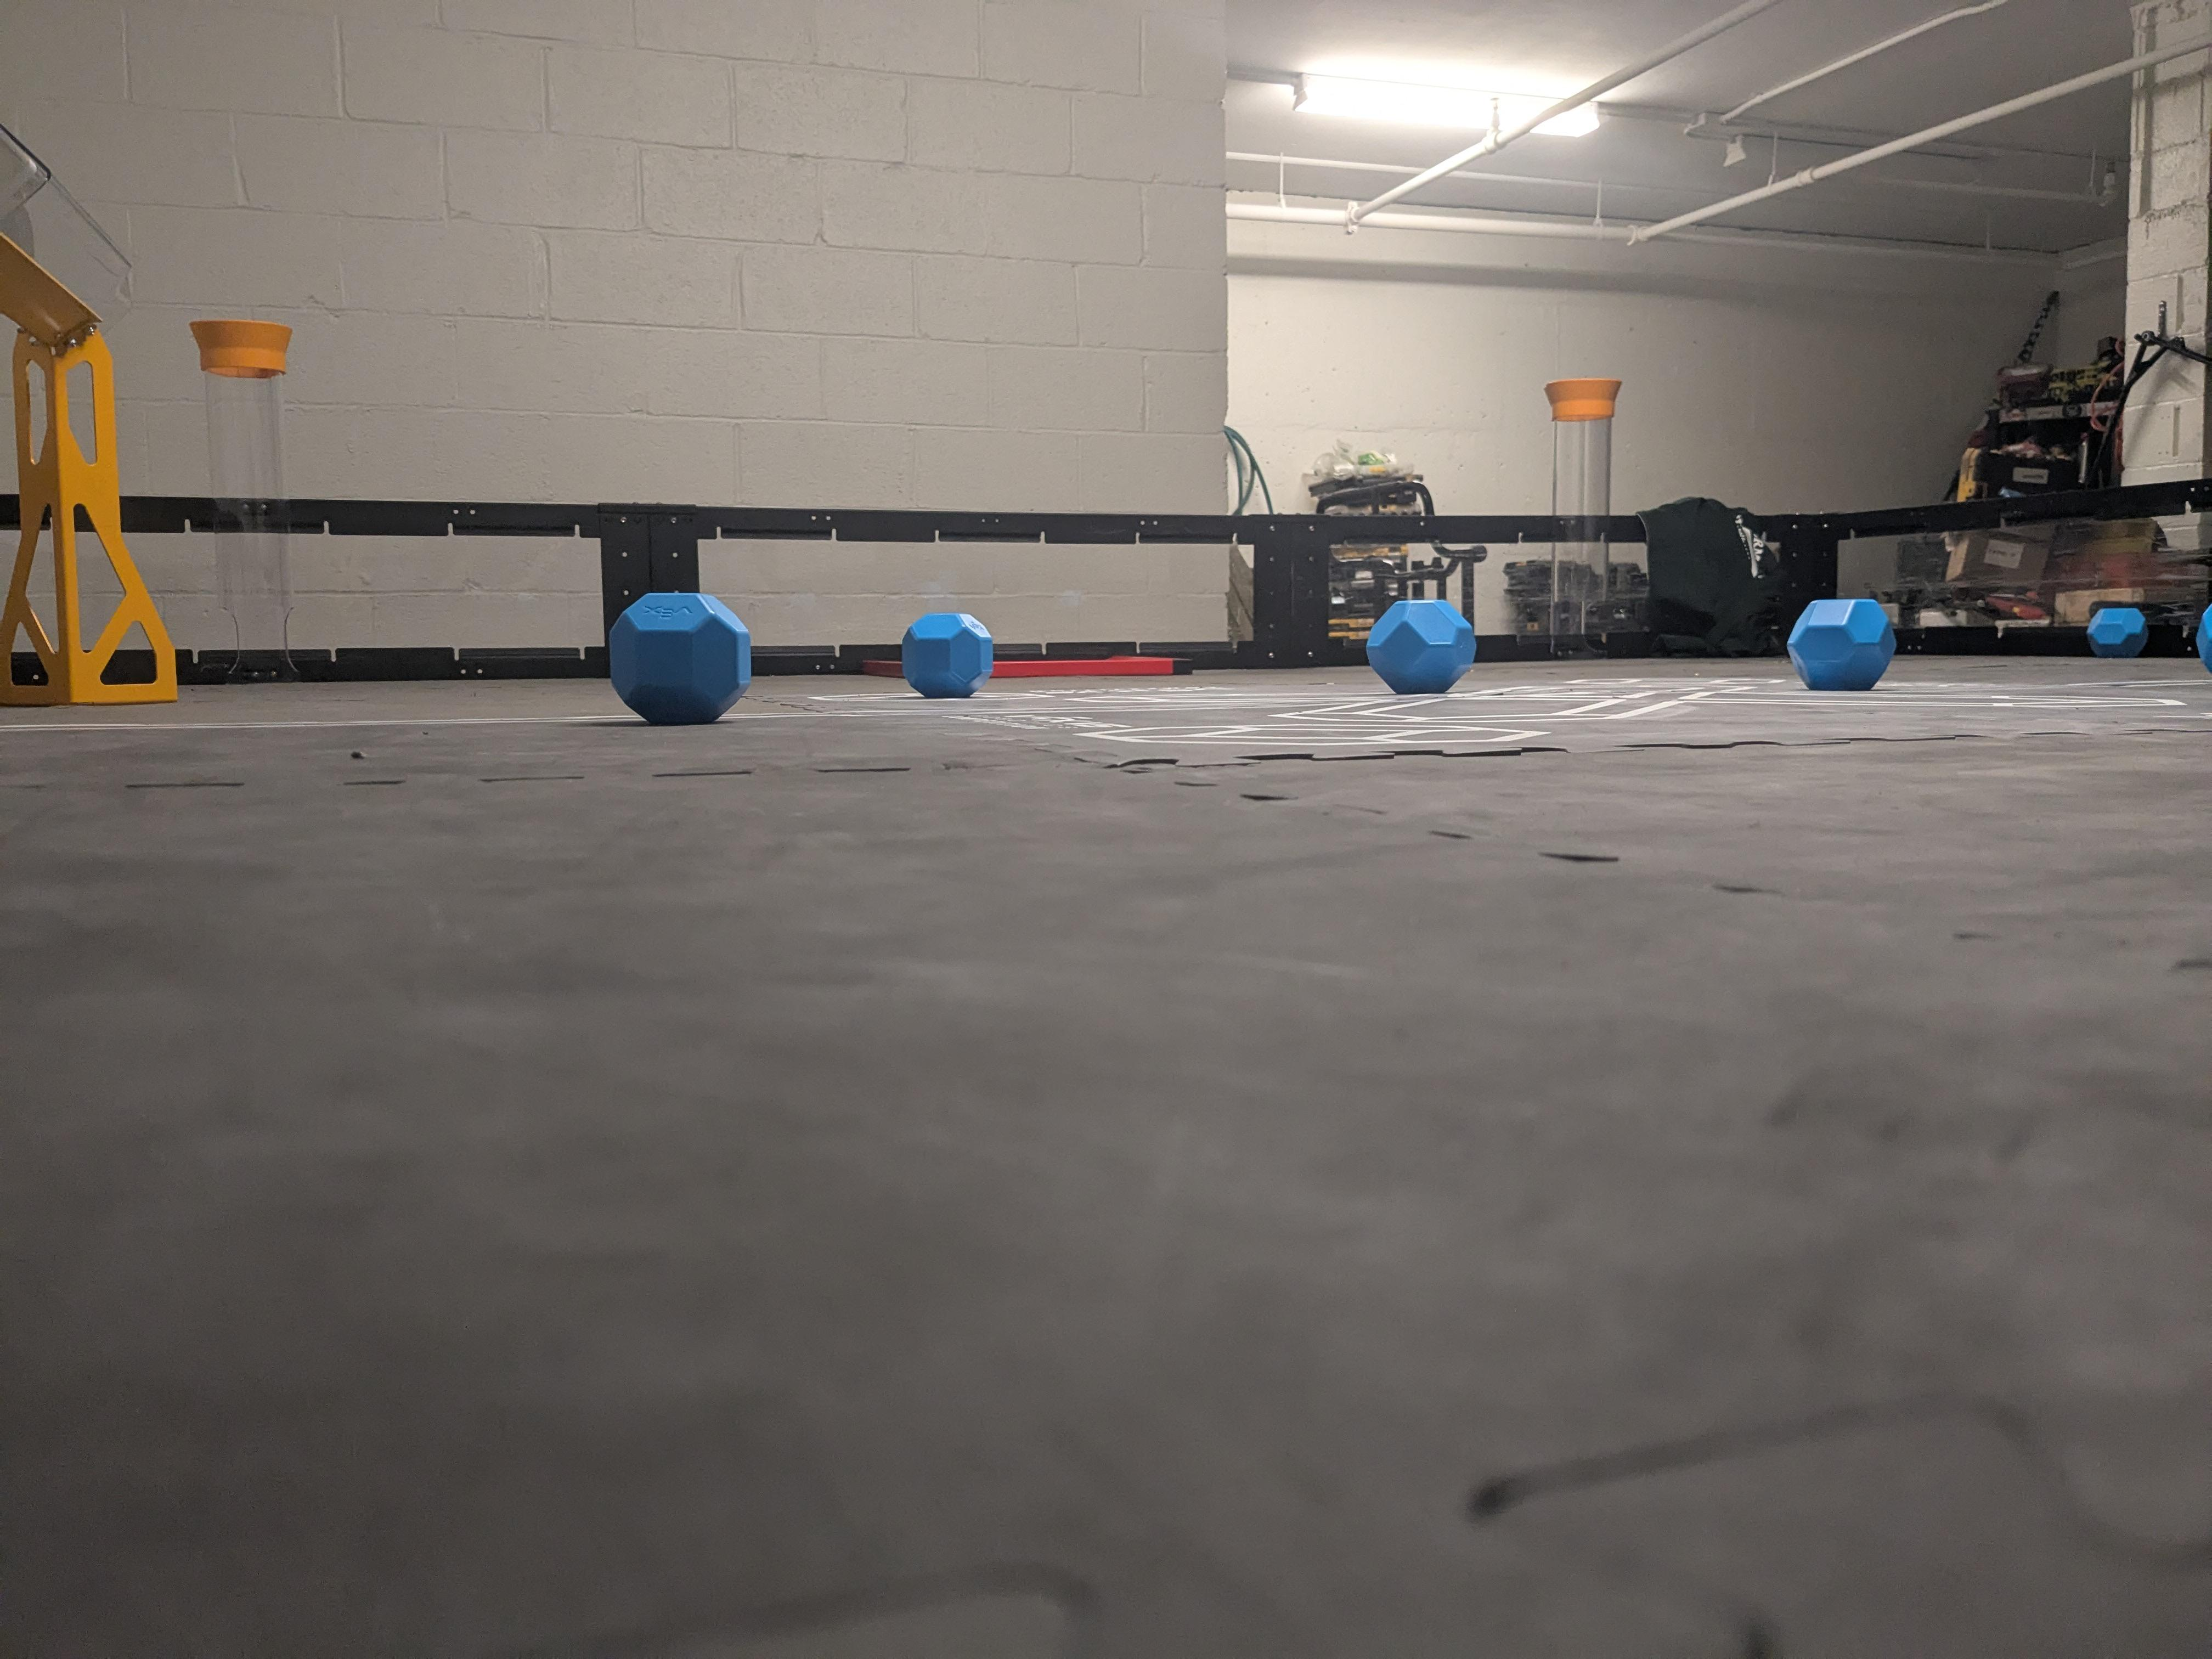Vex-Pieces-BLUE: (608, 592, 752, 723), (1367, 601, 1475, 692), (1791, 598, 1893, 692), (899, 612, 991, 694), (2087, 605, 2148, 657), (2195, 606, 2212, 671)
